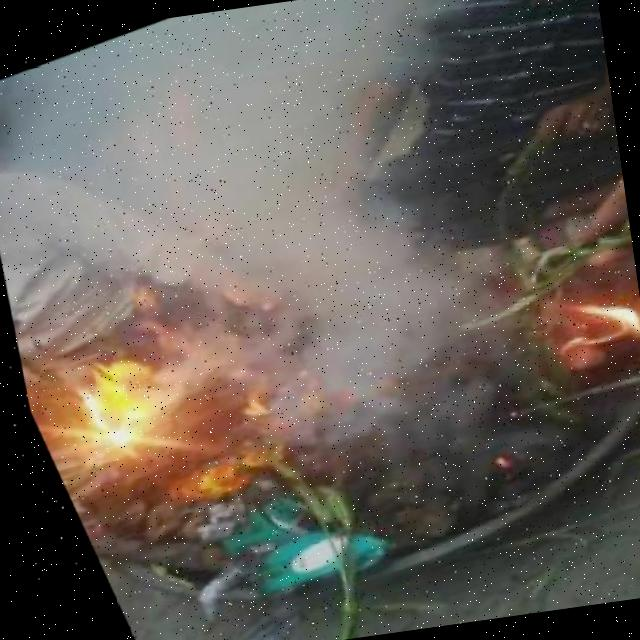fire: (64, 329, 245, 487), (529, 272, 640, 390), (148, 445, 264, 529)
